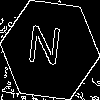N: (25, 25, 63, 75)
